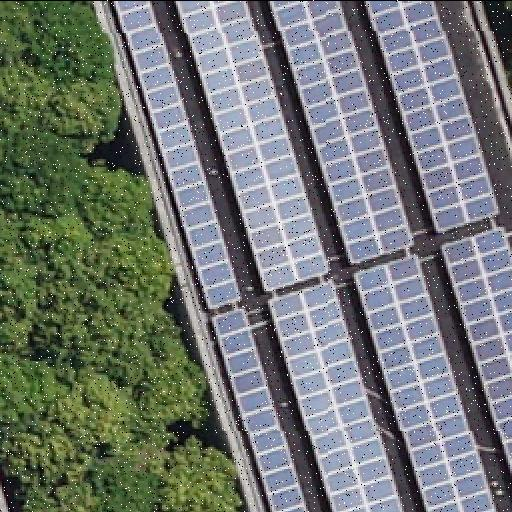solar-panel: (176, 0, 332, 288), (116, 0, 244, 308), (267, 0, 413, 264), (351, 252, 497, 512), (363, 0, 501, 232), (265, 280, 399, 512), (212, 308, 308, 512), (440, 224, 512, 480)
